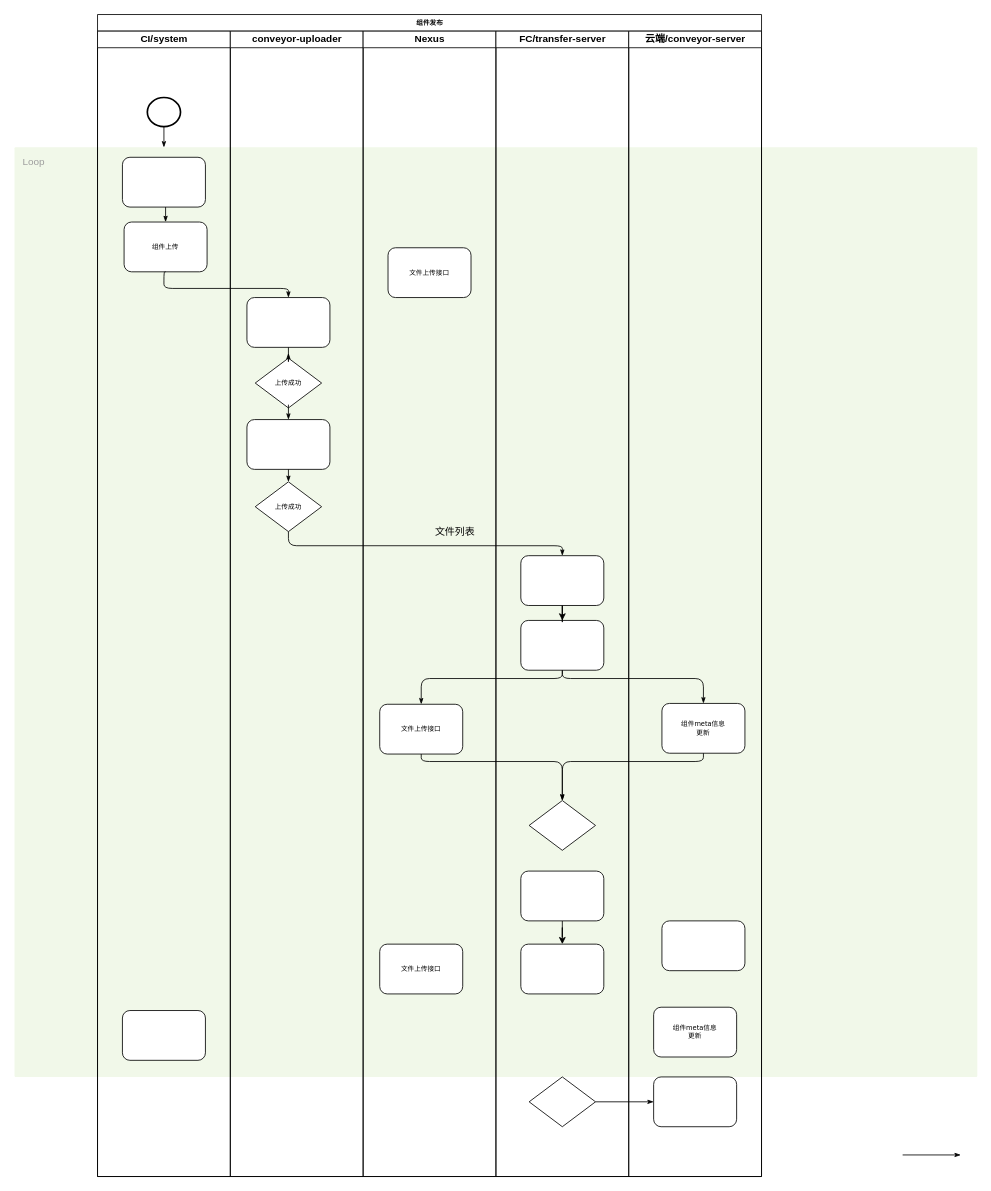
Image size: 991x1191. Some labels were removed from this diagram. The shapes that lost their labels are listed below. From the top down, each one's centre as x and y in pixels, then its label:
the point at 163,181: 组件拉取
the point at 288,322: 上传tar.gz
the point at 288,444: 上传yaml
the point at 562,580: 成功上传回调 接口
the point at 562,645: 生成JSON文件
the point at 562,825: JOSN成功
the point at 562,895: 生成Lock文件
the point at 562,968: 上传文件
